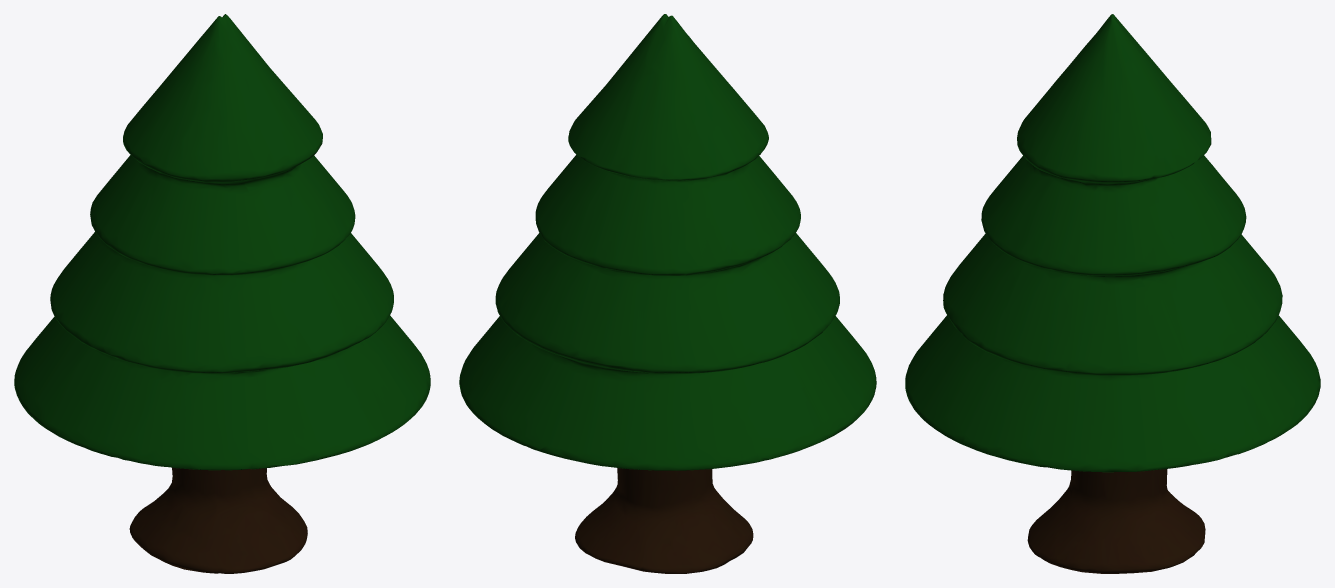
The model's file is Tree2.glb.
3 renders of one model, left to right at view 1: azimuth 30°, elevation 25°; view 2: azimuth 150°, elevation 25°; view 3: azimuth 270°, elevation 25°, orthographic.
Visible parts, largest first — view 1: Layer_1; view 2: Layer_1; view 3: Layer_1.
Boxes of the visible parts, x1=… form: Layer_1: x1=14, y1=14, x2=430, y2=573; Layer_1: x1=459, y1=14, x2=876, y2=573; Layer_1: x1=905, y1=14, x2=1320, y2=573.
Bounding box in the file's own units: 0.5954 × 0.827 × 0.5924.
